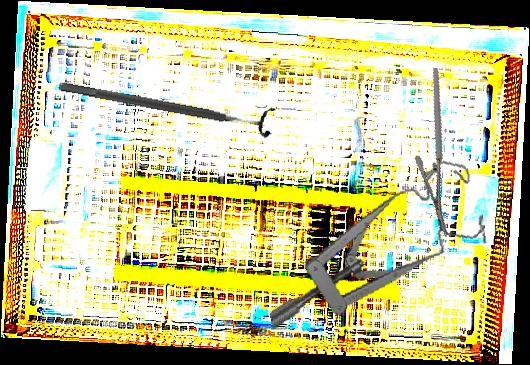Fixation Ring: (55, 69, 277, 141)
Needle Holder: (387, 67, 493, 233)
Speculum: (248, 155, 497, 331)
